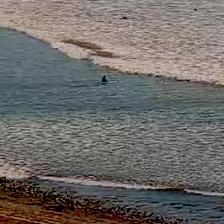surfer: (101, 73, 108, 82), (122, 16, 128, 20), (194, 8, 198, 12)
